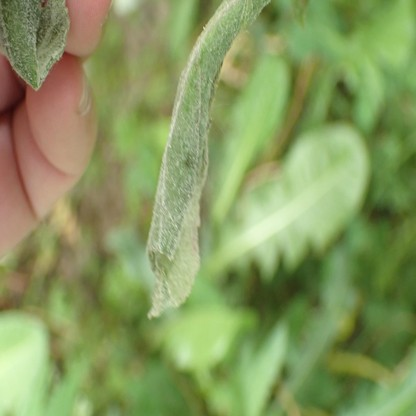powdery_mildew: (145, 0, 270, 319), (1, 0, 70, 92)
